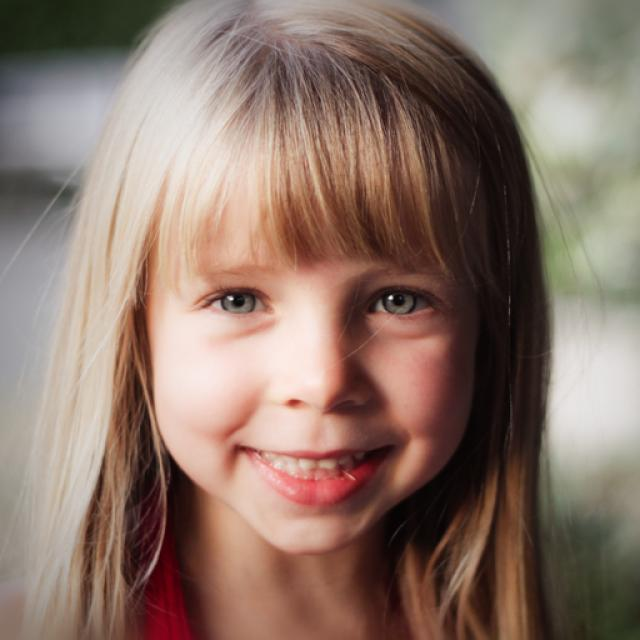happy: (152, 112, 478, 552)
